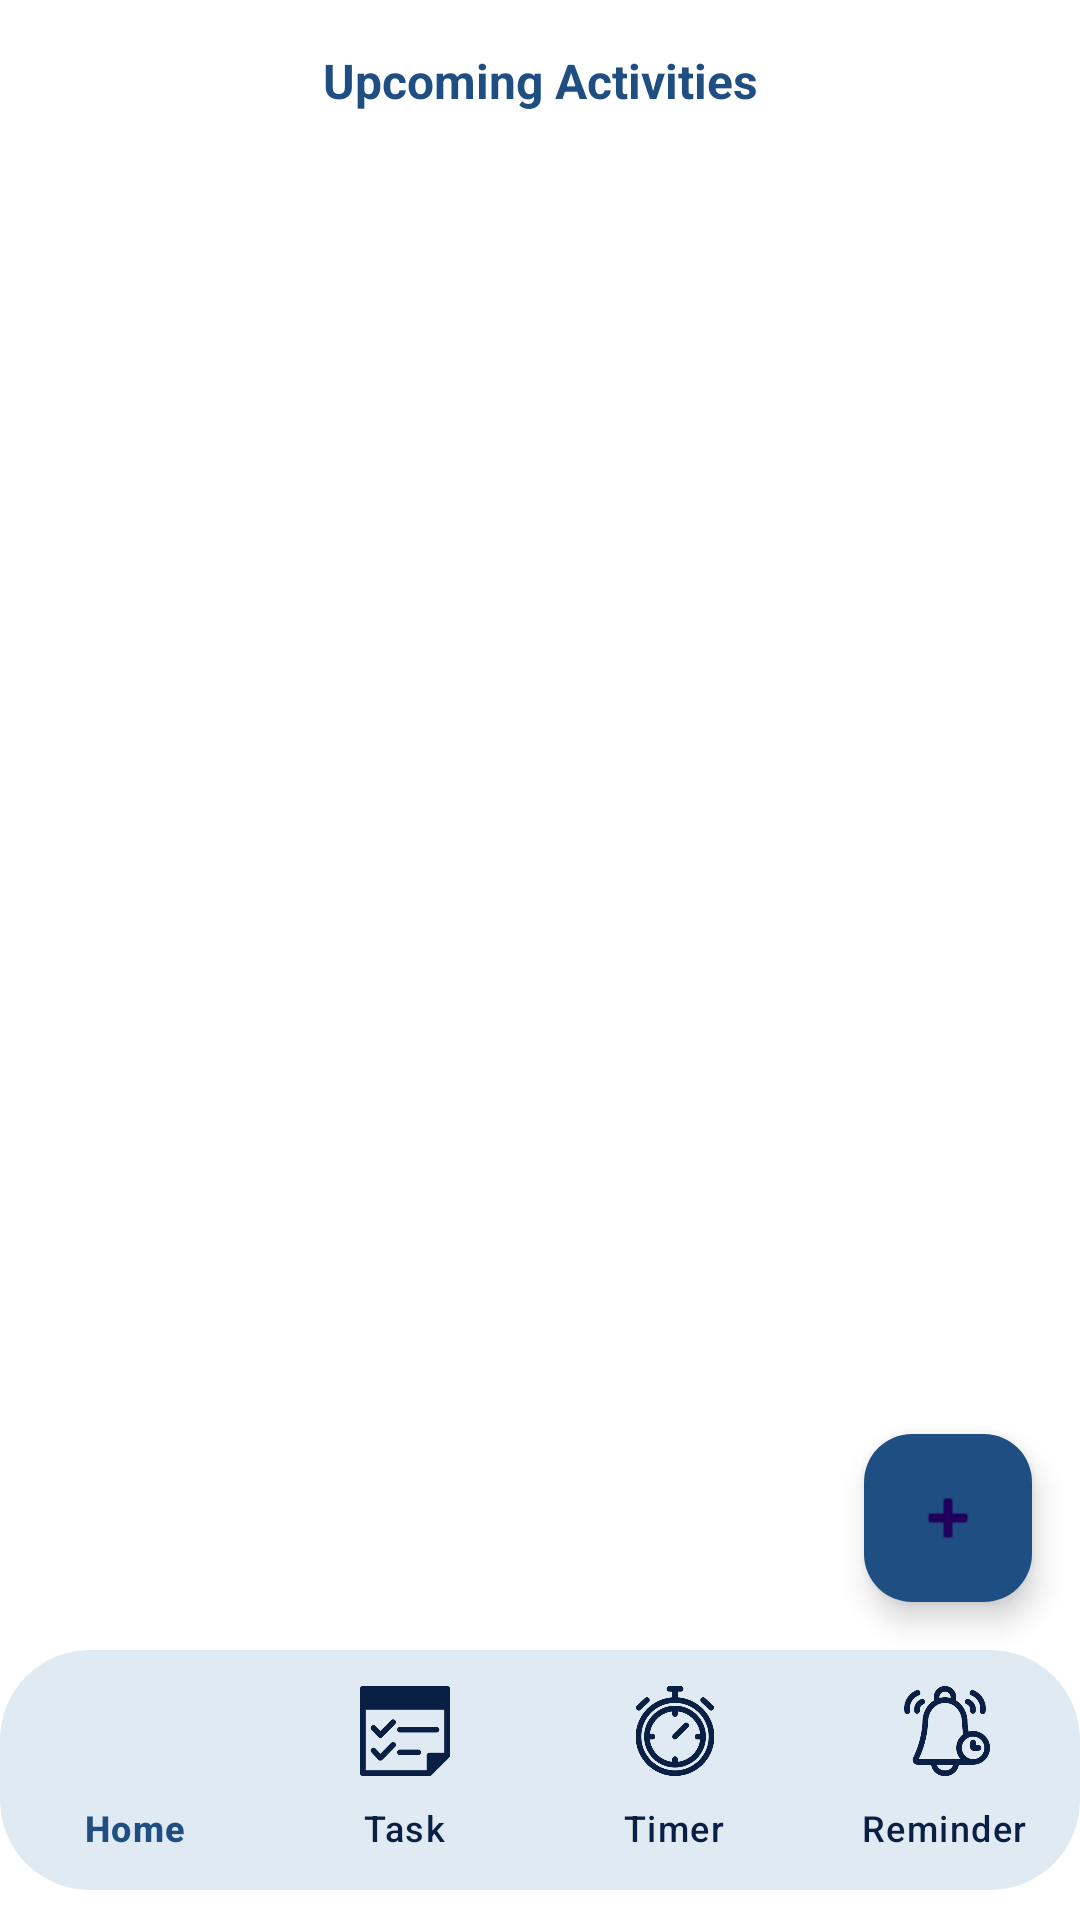

Where icons sit on this 1080px×1920px app screen, as (x1, y1, x2, y2):
add: (864, 1434, 1032, 1602)
